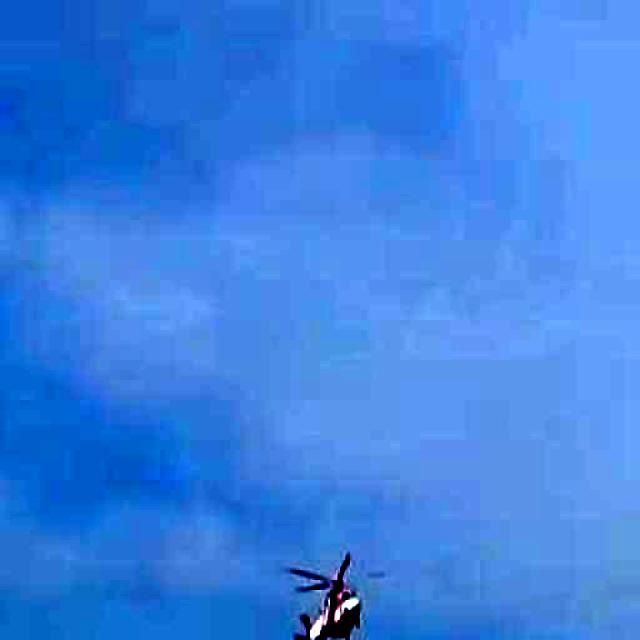drone: (275, 549, 391, 640)
